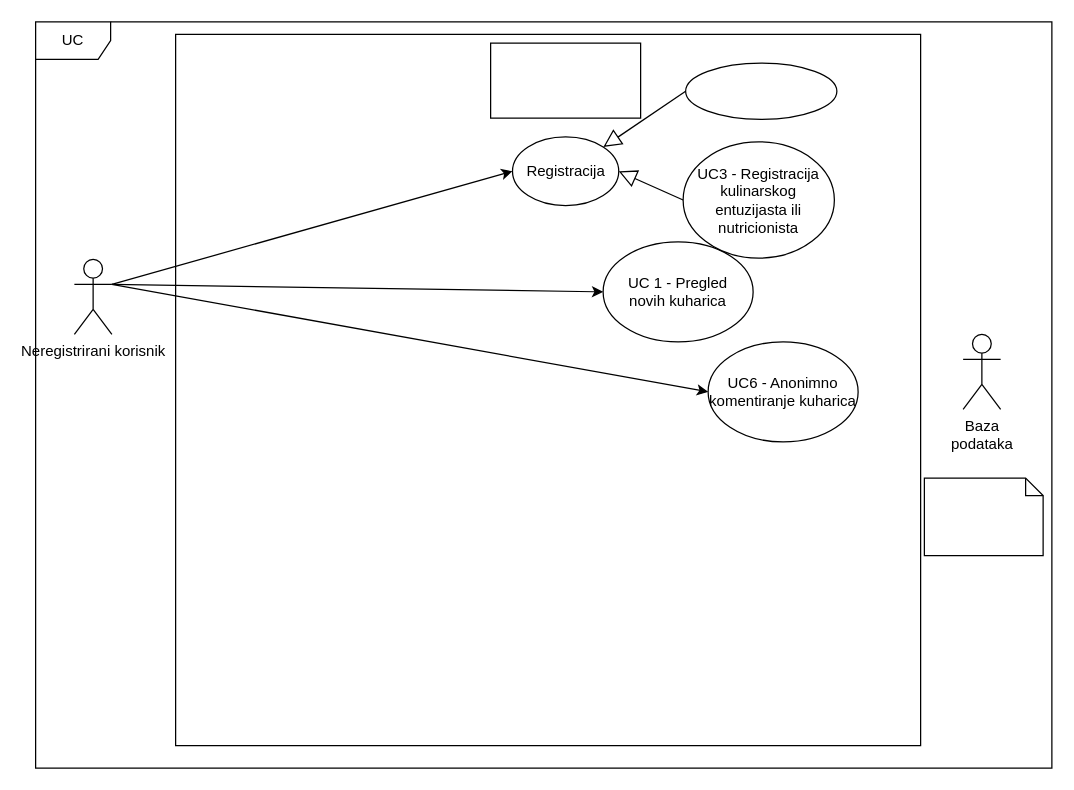
Some shapes in this 1074 by 790 pixel diagram are drawn without their labels. Each missing label, with the centre of its shape:
"Svi obrazci uporabe komuniciraju s bazom podataka" belongs at (x=983, y=516).
"UC2 - Registracija klijenta" belongs at (x=760, y=90).
"Zasebne funkcionalnosti neregistriranog korisnika" belongs at (x=565, y=80).
